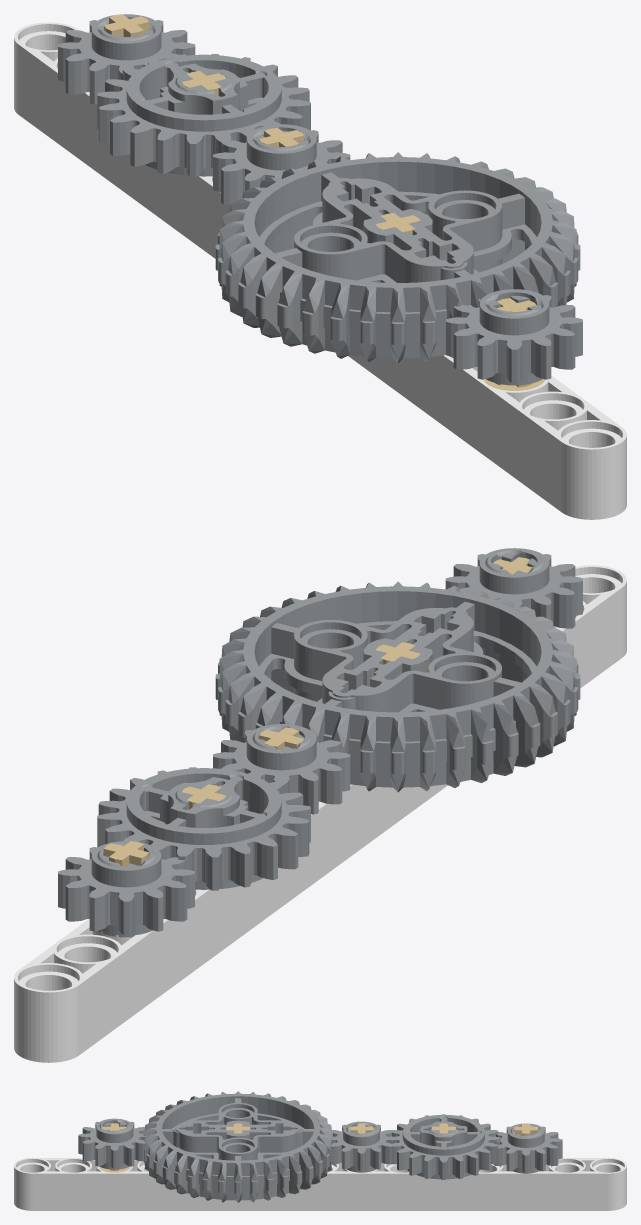
Rendered from im hungry13.glb.
The picture shows the model from 3 angles, top to bottom: view 1: azimuth 30°, elevation 25°; view 2: azimuth 150°, elevation 25°; view 3: azimuth 270°, elevation 25°; orthographic projection. The views are drawn at different scales.
Visible parts, largest first — view 1: im hungry; view 2: im hungry; view 3: im hungry.
Boxes of the visible parts, box(x1,y1,x2,y2) form: im hungry: box(14, 14, 626, 519); im hungry: box(14, 548, 626, 1062); im hungry: box(14, 1091, 626, 1210).
Size of the model in its own units: 94 by 41.58 by 298.
